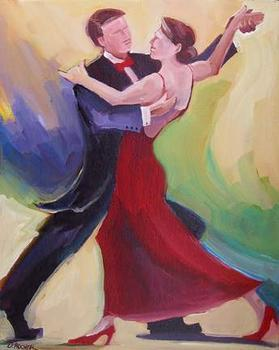person: (5, 2, 143, 322), (135, 11, 270, 333)
